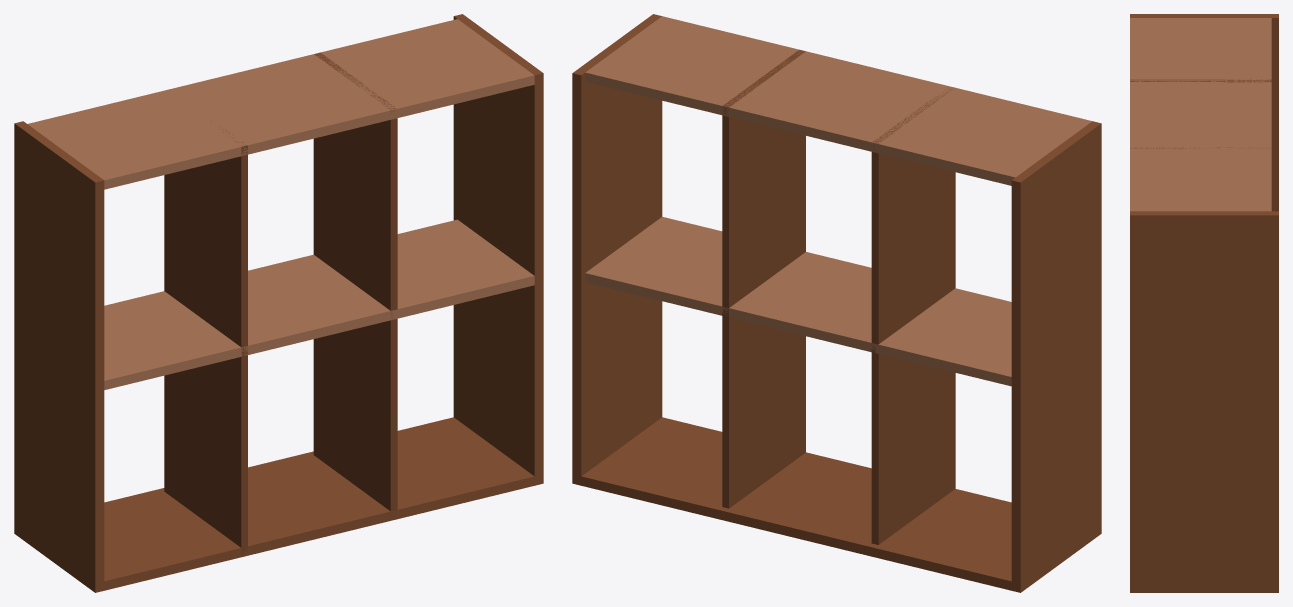
The model's file is cubby.glb.
3 renders of one model, left to right at view 1: azimuth 30°, elevation 25°; view 2: azimuth 150°, elevation 25°; view 3: azimuth 270°, elevation 25°, orthographic. The views are drawn at different scales.
Visible parts, largest first — view 1: cubby; view 2: cubby; view 3: cubby.
Boxes of the visible parts, <box> form: cubby: <box>14,14,543,592</box>; cubby: <box>572,14,1101,592</box>; cubby: <box>1130,14,1278,592</box>.
Size of the model in its own units: 1.22 by 1.07 by 0.381.
